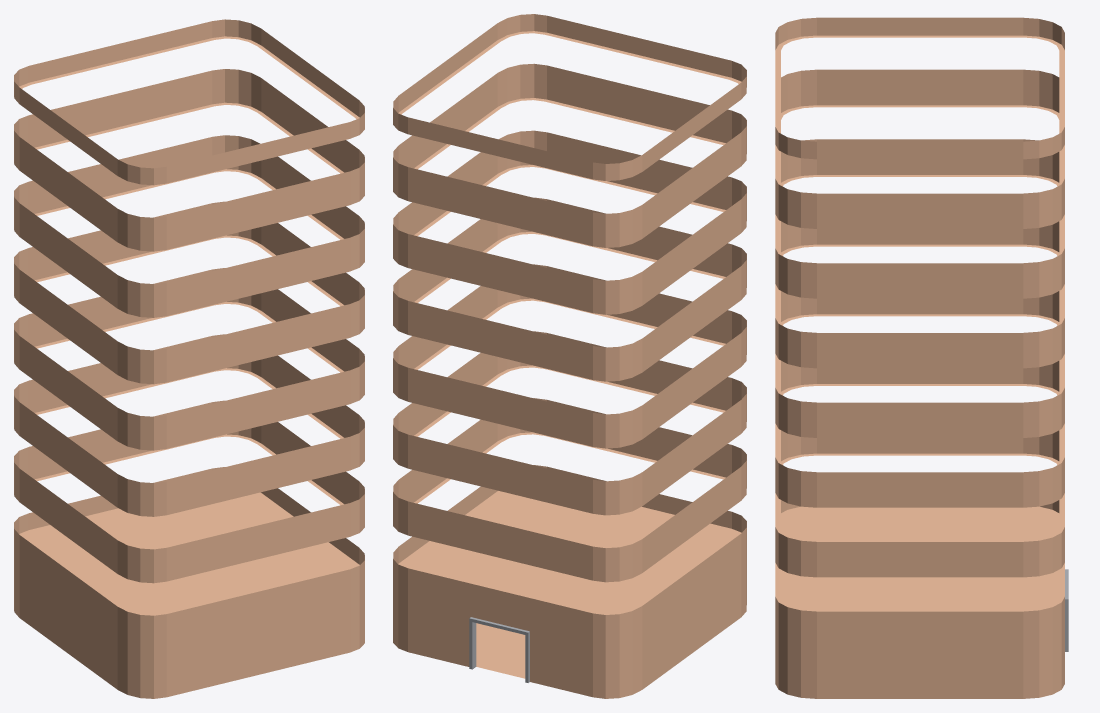
File: Bld_C_high_L4_B.fbx
3 renders of one model, left to right at view 1: azimuth 30°, elevation 25°; view 2: azimuth 150°, elevation 25°; view 3: azimuth 270°, elevation 25°, orthographic. The views are drawn at different scales.
Parts seen in each view (by area): view 1: Bld_C_high_L4_B_LOD0; view 2: Bld_C_high_L4_B_LOD0; view 3: Bld_C_high_L4_B_LOD0.
Boxes of the visible parts, x1,y1,x2,y2 form: Bld_C_high_L4_B_LOD0: (14,19,364,698); Bld_C_high_L4_B_LOD0: (393,14,746,698); Bld_C_high_L4_B_LOD0: (775,17,1068,698).
Size of what is drawn, in the model's own units: 2100 by 4956 by 2222.
1 material, 1 textured.
